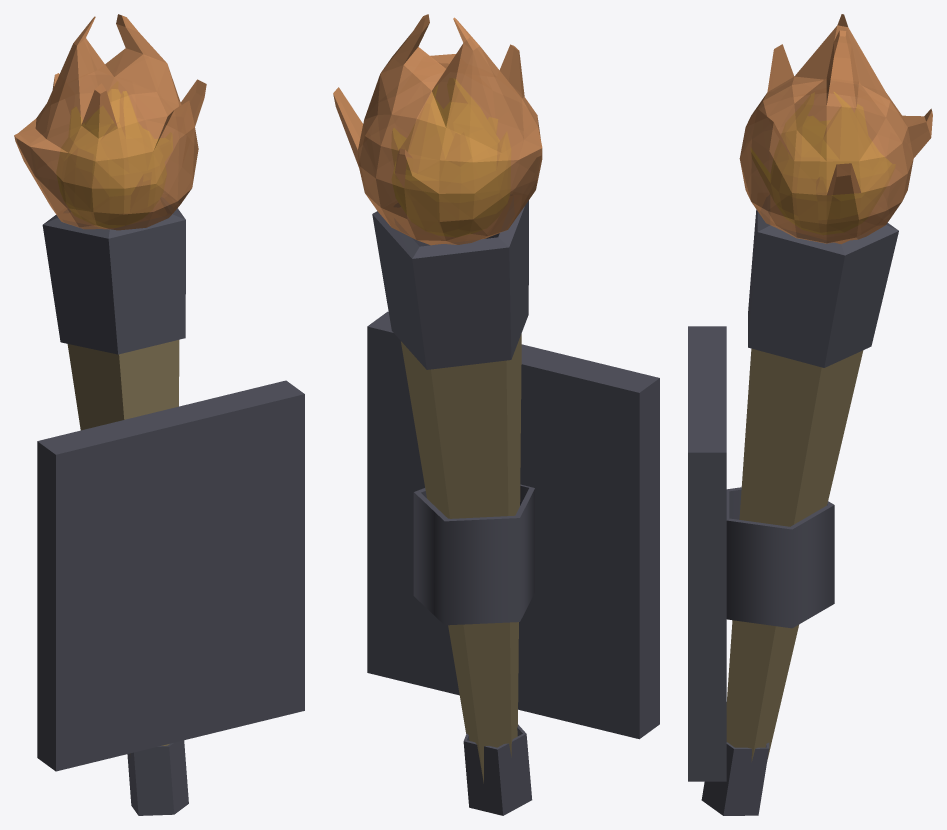
The model's file is TorchAndHolder.fbx.
3 renders of one model, left to right at view 1: azimuth 30°, elevation 25°; view 2: azimuth 150°, elevation 25°; view 3: azimuth 270°, elevation 25°, orthographic. The views are drawn at different scales.
Visible parts, largest first — view 1: Torch_Holder, Torch; view 2: Torch_Holder, Torch; view 3: Torch, Torch_Holder.
Part boxes in pixels (x1,y1,x2,y2): Torch_Holder: (37, 380, 304, 771); Torch: (14, 14, 206, 815); Torch_Holder: (367, 311, 659, 739); Torch: (333, 14, 542, 815); Torch: (701, 14, 932, 815); Torch_Holder: (688, 326, 834, 781).
Size of the model in its own units: 54.32 by 44.54 by 158.
